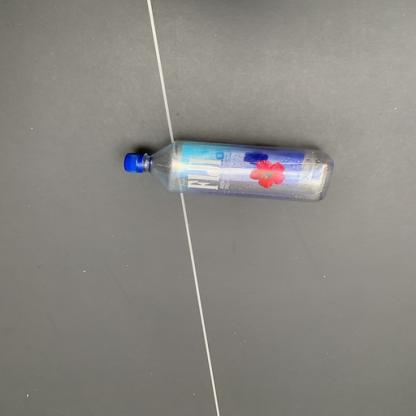trash: (120, 134, 336, 205)
